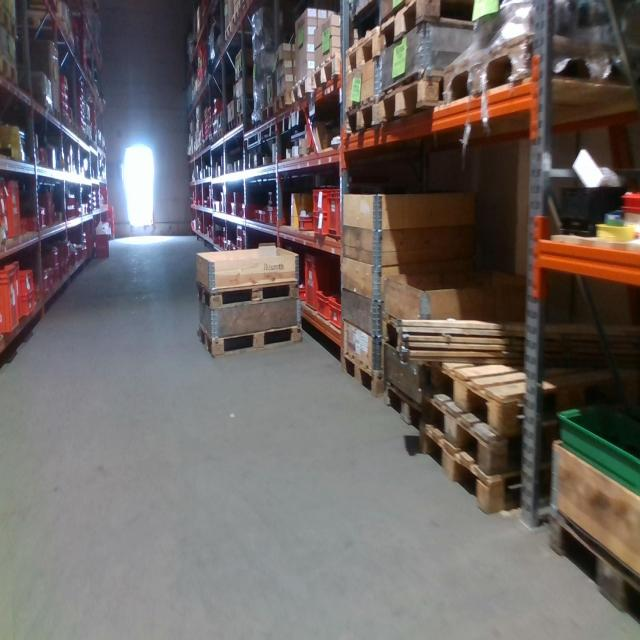pallet: (447, 26, 639, 108), (541, 508, 638, 632), (425, 429, 522, 509), (427, 395, 517, 465), (436, 362, 524, 415), (376, 70, 446, 132), (194, 318, 305, 357), (197, 276, 303, 309), (375, 16, 455, 54), (380, 381, 430, 440), (382, 322, 442, 366), (337, 347, 391, 392), (345, 21, 382, 79), (340, 90, 375, 144), (313, 47, 345, 98), (289, 79, 311, 115), (250, 107, 277, 134), (278, 94, 292, 127)
small_load_carrier: (302, 248, 339, 288), (316, 285, 341, 328), (329, 184, 344, 244), (301, 280, 319, 313), (311, 189, 333, 214), (311, 210, 332, 236), (329, 294, 343, 333), (95, 226, 110, 259), (265, 200, 284, 222), (38, 268, 53, 295), (25, 288, 37, 318), (25, 261, 35, 293), (256, 202, 267, 224), (296, 216, 311, 232), (229, 187, 245, 202), (226, 200, 243, 214), (235, 234, 245, 252), (234, 224, 245, 239)
